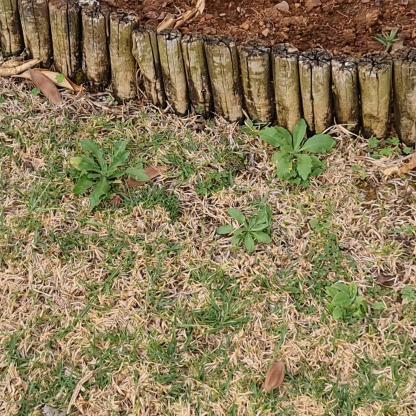Weeds: (67, 138, 148, 213), (257, 119, 337, 183), (218, 205, 275, 256), (325, 278, 363, 322), (309, 218, 332, 234), (400, 285, 415, 302)
